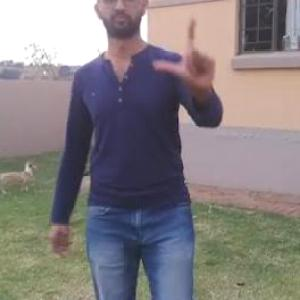land_hand: (154, 11, 220, 90)
